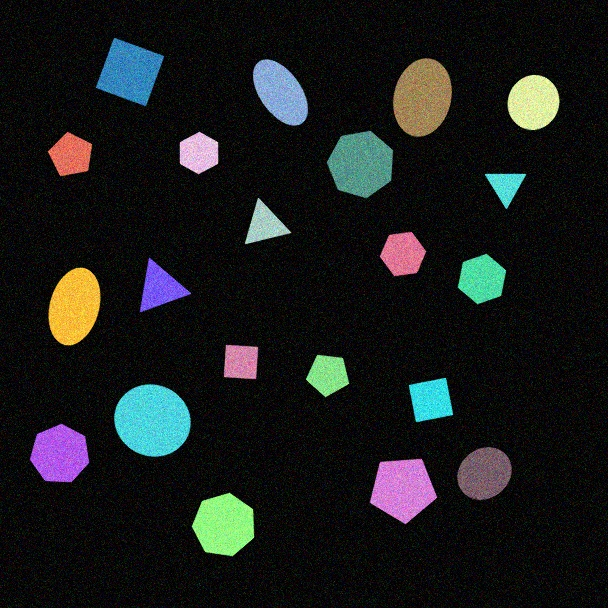Circulo: (113, 384, 192, 457), (456, 446, 513, 501), (507, 74, 560, 131)
Elipse: (392, 57, 453, 138), (48, 267, 101, 346), (252, 59, 309, 126)
Heptagono: (326, 130, 394, 199), (191, 492, 255, 557), (29, 423, 90, 483)
Hexagono: (457, 253, 507, 305), (379, 231, 427, 277), (179, 131, 219, 175)
Pentagono: (369, 458, 438, 525), (47, 131, 93, 177), (305, 354, 350, 398)
Quadrado: (95, 37, 165, 107), (408, 377, 454, 423), (223, 344, 259, 380)
Triangulo: (139, 257, 192, 313), (244, 198, 292, 245), (484, 173, 527, 210)
